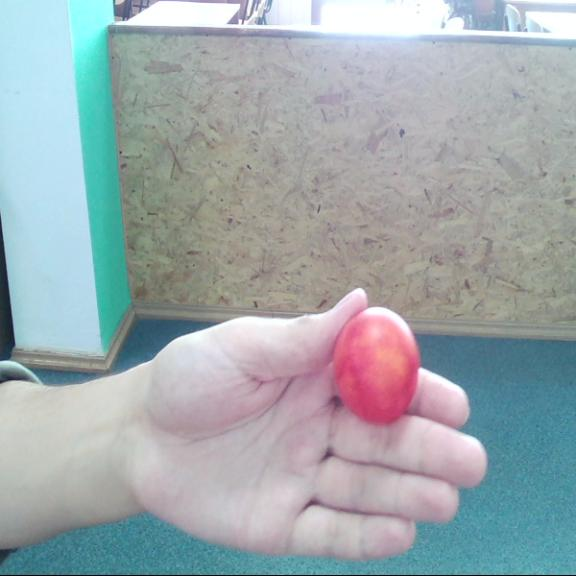ball: (334, 306, 419, 418)
